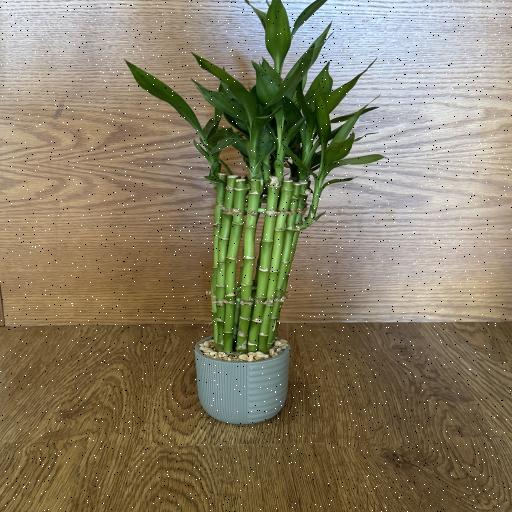Plant Pot: (191, 330, 294, 425)
